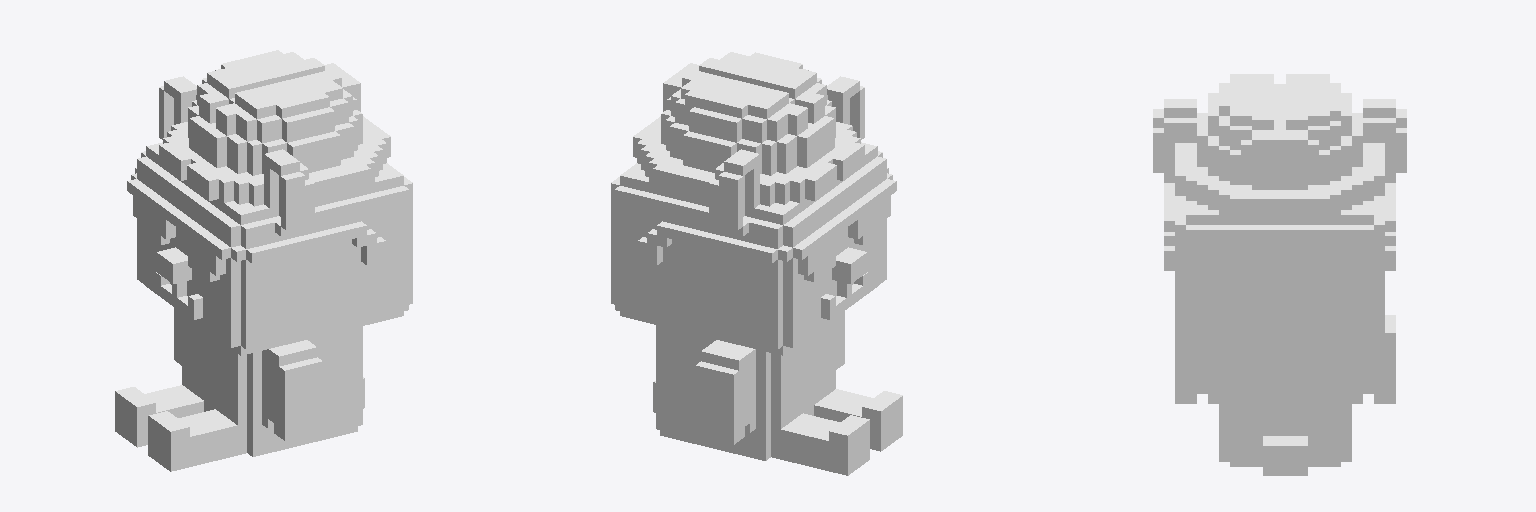
The model's file is bar_bear.obj.
3 views of the same model, side by side, from view 1: azimuth 30°, elevation 25°; view 2: azimuth 150°, elevation 25°; view 3: azimuth 270°, elevation 25° (orthographic).
Visible parts, largest first — view 1: object 1; view 2: object 1; view 3: object 1.
Boxes of the visible parts, x1,y1,x2,y2 form: object 1: [115, 50, 412, 471]; object 1: [611, 52, 902, 475]; object 1: [1153, 74, 1406, 475].
Size of the model in its own units: 2.3 by 3.4 by 2.3.